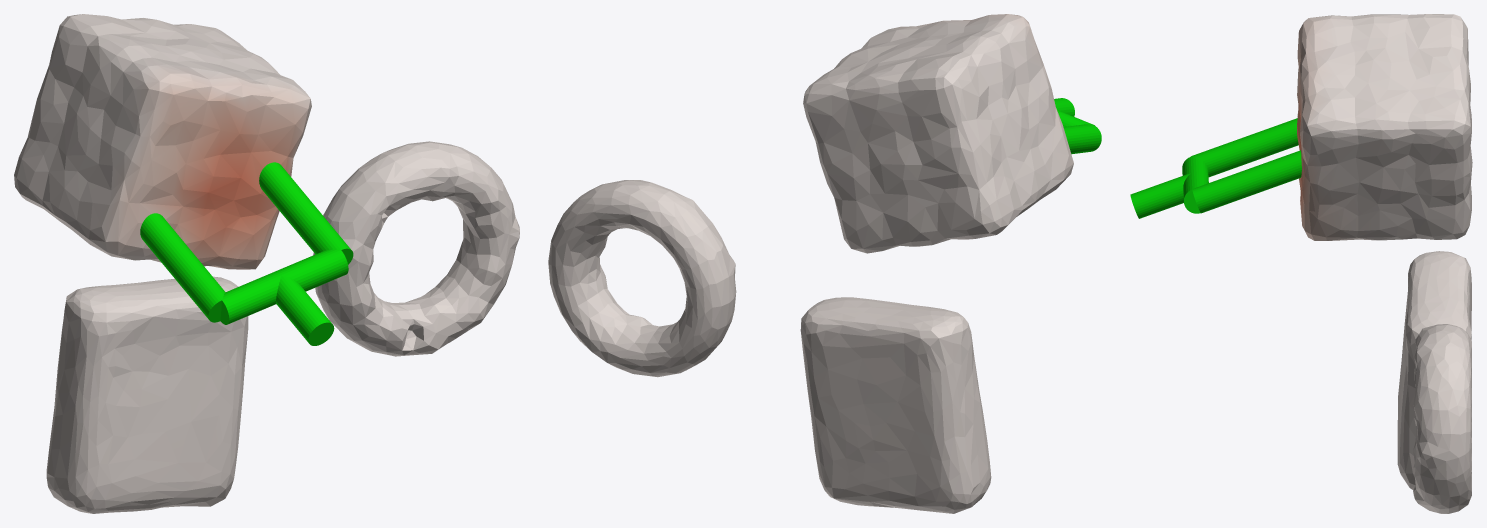
File: round_000_trial_001.obj
3 views of the same model, side by side, from view 1: azimuth 30°, elevation 25°; view 2: azimuth 150°, elevation 25°; view 3: azimuth 270°, elevation 25° (orthographic). The views are drawn at different scales.
Visible parts, largest first — view 1: geometry_0, geometry_1; view 2: geometry_0, geometry_1; view 3: geometry_0, geometry_1.
Part boxes in pixels (left/top/right/bottom): geometry_0: left=14, top=14, right=519, bottom=513; geometry_1: left=140, top=162, right=353, bottom=345; geometry_0: left=548, top=14, right=1073, bottom=513; geometry_1: left=1054, top=98, right=1101, bottom=154; geometry_0: left=1297, top=14, right=1472, bottom=513; geometry_1: left=1130, top=118, right=1301, bottom=218.
Size of the model in its own units: 0.1864 by 0.1822 by 0.1314.
